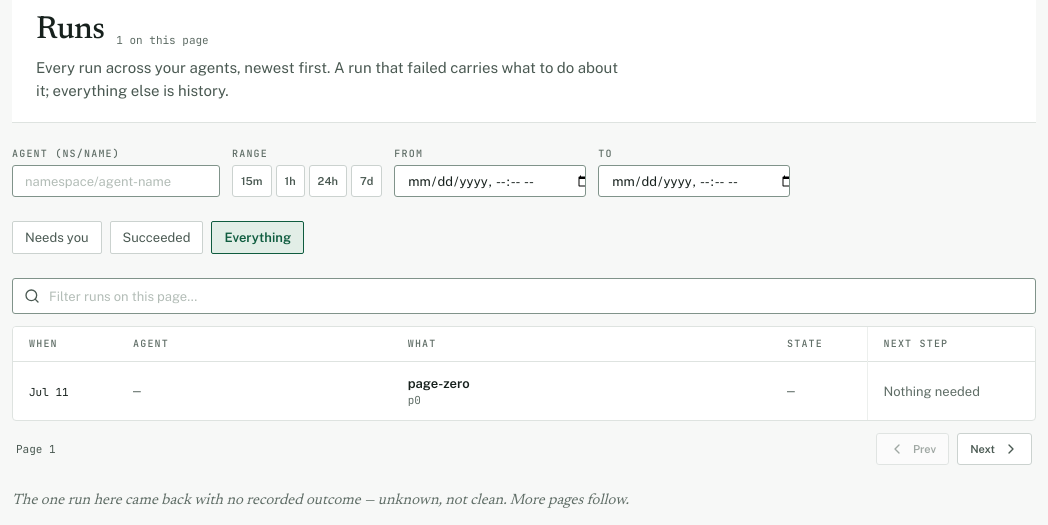
Test case: RunsPage — cursor pagination (m16.8) › nextCursor drives the next page; Prev walks back
Expected: the text "page-zero" is shown, [408, 376, 470, 391]
Expected: the button with aria-label "Previous page" is disabled, [876, 433, 949, 465]
Click the button with aria-label "Next page" at (995, 449), box [957, 433, 1032, 465]
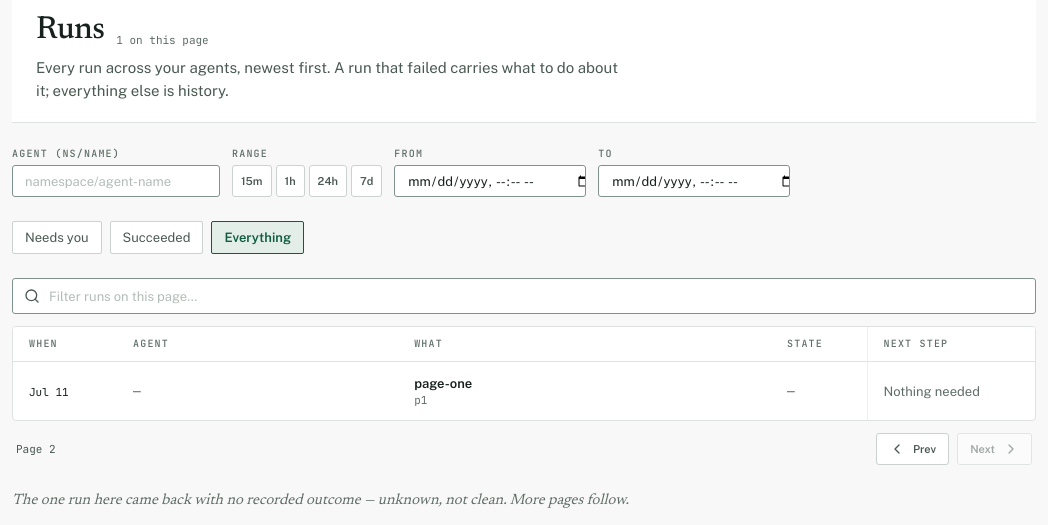
Result: the text "page-one" is shown at [414, 376, 472, 391]
Result: the button with aria-label "Next page" is disabled at [957, 433, 1032, 465]
Result: the button with aria-label "Previous page" is enabled
Note: Prev walks back
Click the button with aria-label "Previous page" at (913, 449), box [876, 433, 949, 465]
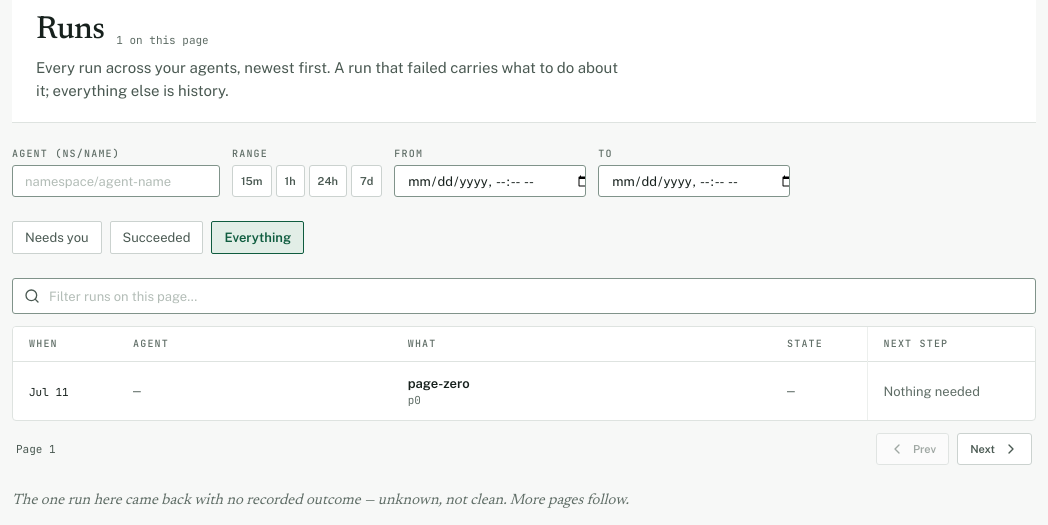
Result: the text "page-zero" is shown at [408, 376, 470, 391]
